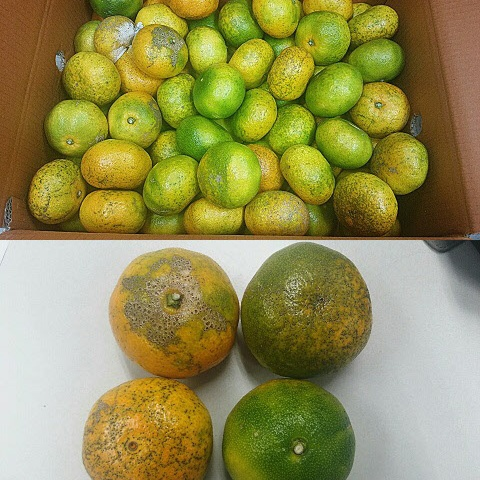mandarin: (240, 242, 372, 379), (110, 250, 238, 380), (83, 379, 215, 480), (222, 379, 353, 480), (331, 170, 398, 236), (43, 98, 111, 159), (193, 138, 256, 203), (27, 158, 86, 224), (371, 134, 428, 199), (145, 153, 202, 214), (79, 139, 151, 186), (292, 10, 352, 66), (307, 62, 363, 121), (61, 52, 120, 108), (132, 22, 188, 78), (280, 145, 334, 203), (110, 92, 164, 150), (242, 189, 307, 237), (312, 116, 372, 167), (228, 86, 283, 141), (191, 64, 243, 118), (78, 192, 147, 232), (175, 116, 237, 160), (354, 80, 408, 130), (270, 46, 316, 102), (348, 39, 406, 82), (268, 107, 312, 159), (156, 73, 196, 128), (134, 6, 188, 45), (115, 50, 160, 96), (230, 38, 272, 87), (348, 5, 398, 46), (246, 140, 284, 192), (185, 25, 227, 72), (93, 16, 134, 64), (217, 2, 261, 44), (252, 1, 303, 37), (184, 199, 241, 231), (74, 19, 102, 53), (169, 1, 218, 20), (146, 211, 184, 234)
